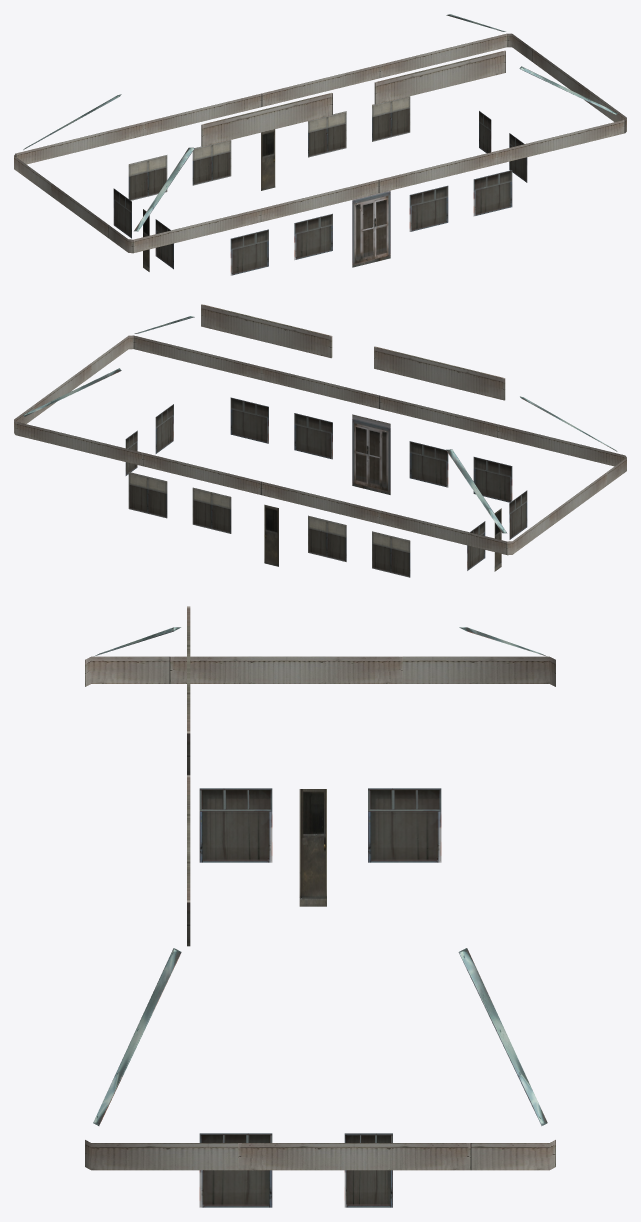
The model's file is rural_woodenbuilding_4_rural_facade_flr_2_0_lev2.glb.
3 views of the same model, one above another, from view 1: azimuth 30°, elevation 25°; view 2: azimuth 150°, elevation 25°; view 3: azimuth 270°, elevation 25° (orthographic). The views are drawn at different scales.
Visible parts, largest first — view 1: rural_woodenbuilding_4_rural_facade_flr_2_0_lev2; view 2: rural_woodenbuilding_4_rural_facade_flr_2_0_lev2; view 3: rural_woodenbuilding_4_rural_facade_flr_2_0_lev2.
Boxes of the visible parts, box(x1,y1,x2,y2) form: rural_woodenbuilding_4_rural_facade_flr_2_0_lev2: box(14, 14, 626, 275); rural_woodenbuilding_4_rural_facade_flr_2_0_lev2: box(14, 304, 626, 577); rural_woodenbuilding_4_rural_facade_flr_2_0_lev2: box(85, 606, 555, 1207).
Bounding box in the file's own units: 23.8 × 7.39 × 9.73.
1 material, 1 textured.
